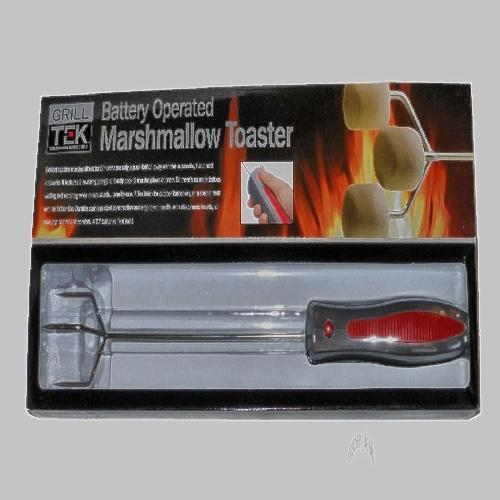toaster: (32, 80, 472, 419)
